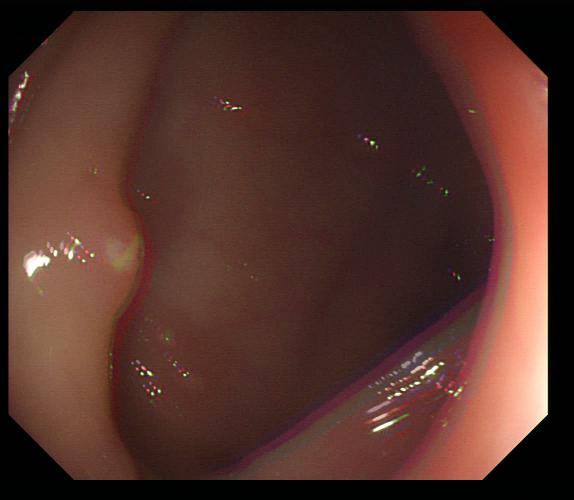polyp: (93, 197, 144, 313)
